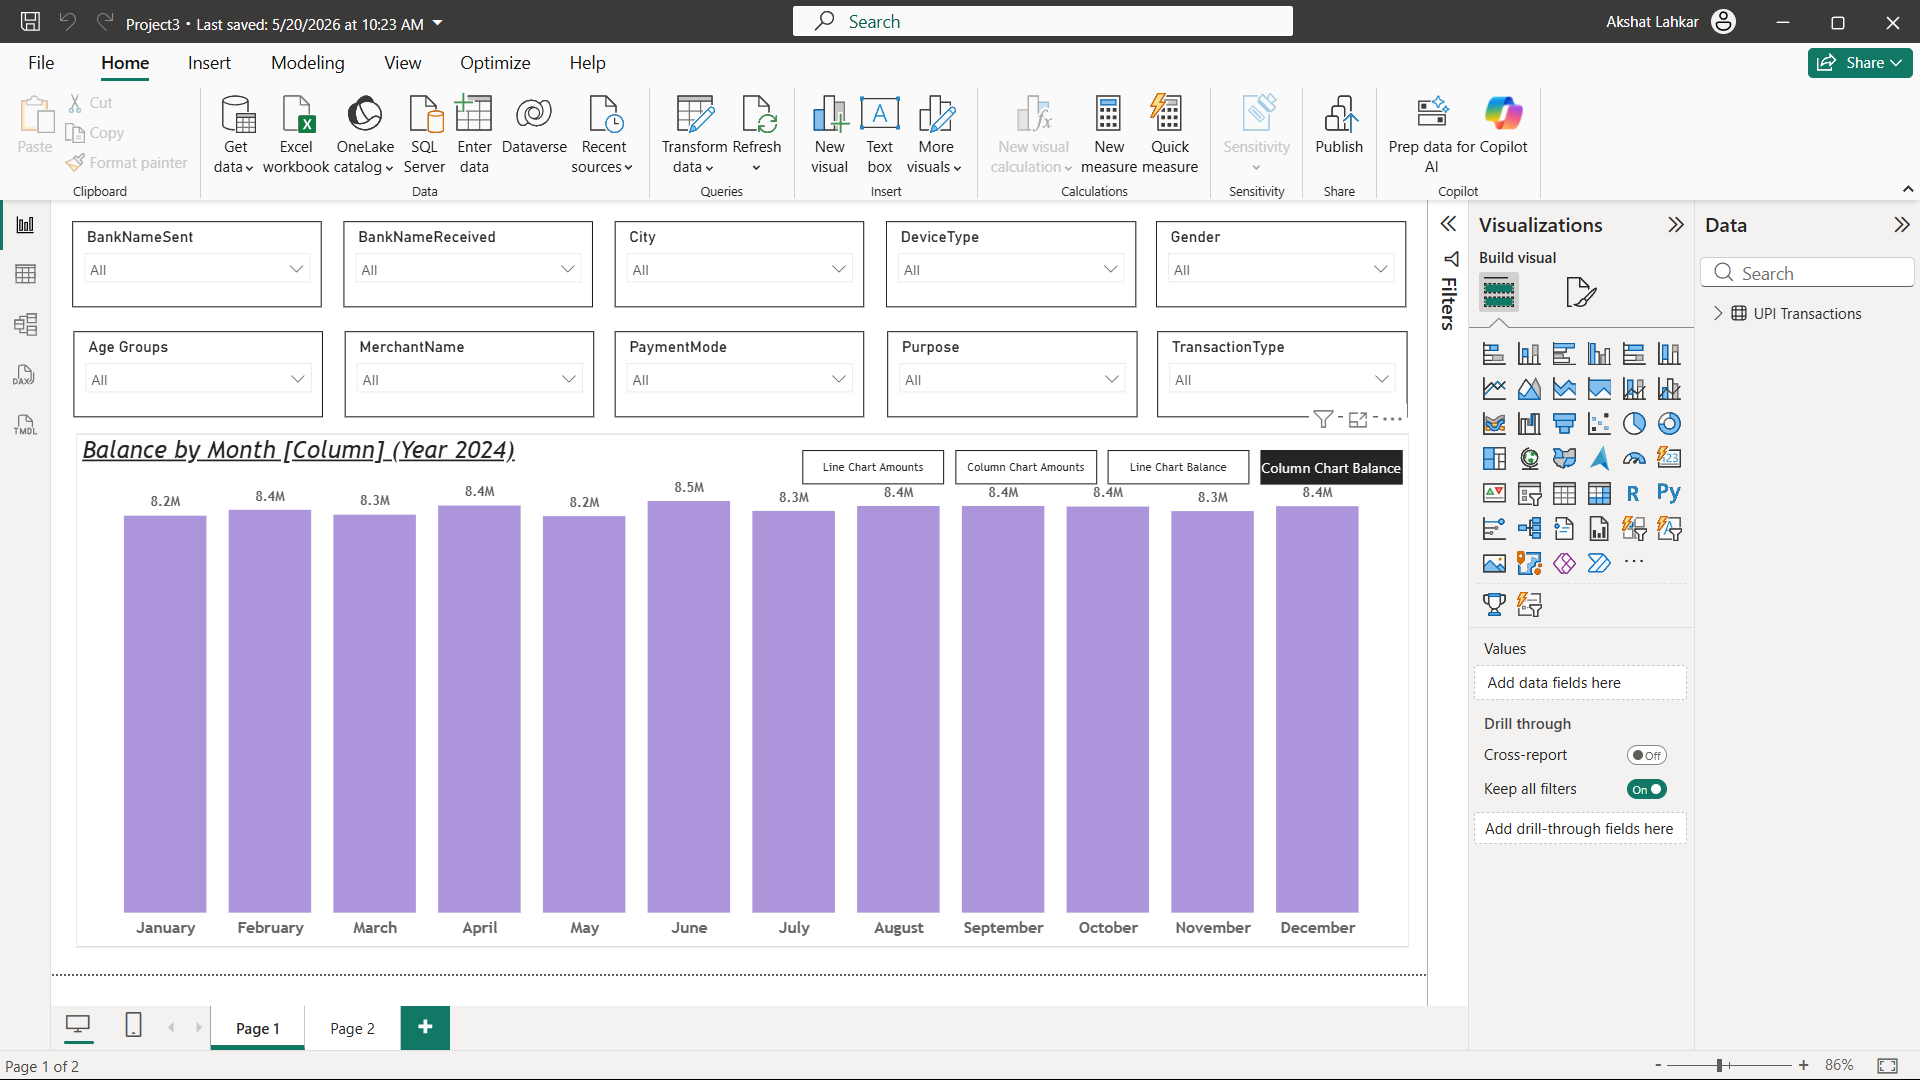

The page's visual inventory and layout, read from the dashboard file:
{"tool":"powerbi","page":{"name":"Page 1","canvas":[1280,720],"ordinal":0},"visuals":[{"type":"slicer","fields":{"Values":["UPI Transactions.BankNameSent"]},"box":[20,20,232,80],"z":0},{"type":"slicer","fields":{"Values":["UPI Transactions.BankNameReceived"]},"box":[272,20,232,80.2],"z":1000},{"type":"slicer","fields":{"Values":["UPI Transactions.City"]},"box":[524,20,232,80.2],"z":2000},{"type":"slicer","fields":{"Values":["UPI Transactions.DeviceType"]},"box":[776.7,20,232.6,80.2],"z":3000},{"type":"slicer","fields":{"Values":["UPI Transactions.Gender"]},"box":[1028,20,232.6,80.2],"z":4000},{"type":"slicer","fields":{"Values":["UPI Transactions.Age Groups"]},"box":[20.7,122.1,232,80],"z":5000},{"type":"slicer","fields":{"Values":["UPI Transactions.MerchantName"]},"box":[272.7,122.1,232,80.2],"z":6000},{"type":"slicer","fields":{"Values":["UPI Transactions.PaymentMode"]},"box":[524.7,122.1,232,80.2],"z":7000},{"type":"slicer","fields":{"Values":["UPI Transactions.Purpose"]},"box":[777.4,122.1,232.6,80.2],"z":8000},{"type":"slicer","fields":{"Values":["UPI Transactions.TransactionType"]},"box":[1028.7,122.1,232.6,80.2],"z":9000},{"type":"columnChart","title":"Balance by Month [Column] (Year 2024)","fields":{"Category":["UPI Transactions.TransactionDate.Variation.Date Hierarchy.Month"],"Y":["Sum(UPI Transactions.RemainingBalance)"]},"box":[23.1,217.1,1239.7,477.9],"z":13000},{"type":"bookmarkNavigator","box":[698.8,232.5,561.4,32.1],"z":14000}]}

Visuals, with their boxes on the page's 1280x720 design canvas (x1, y1, x2, y2). These are canvas units, not pixel positions in the 1920x1080 screenshot, which may show the page scaled, cropped or inside an application window:
slicer - UPI Transactions.BankNameSent: {"x1": 20, "y1": 20, "x2": 252, "y2": 100}
slicer - UPI Transactions.BankNameReceived: {"x1": 272, "y1": 20, "x2": 504, "y2": 100}
slicer - UPI Transactions.City: {"x1": 524, "y1": 20, "x2": 756, "y2": 100}
slicer - UPI Transactions.DeviceType: {"x1": 777, "y1": 20, "x2": 1009, "y2": 100}
slicer - UPI Transactions.Gender: {"x1": 1028, "y1": 20, "x2": 1261, "y2": 100}
slicer - UPI Transactions.Age Groups: {"x1": 21, "y1": 122, "x2": 253, "y2": 202}
slicer - UPI Transactions.MerchantName: {"x1": 273, "y1": 122, "x2": 505, "y2": 202}
slicer - UPI Transactions.PaymentMode: {"x1": 525, "y1": 122, "x2": 757, "y2": 202}
slicer - UPI Transactions.Purpose: {"x1": 777, "y1": 122, "x2": 1010, "y2": 202}
slicer - UPI Transactions.TransactionType: {"x1": 1029, "y1": 122, "x2": 1261, "y2": 202}
"Balance by Month [Column] (Year 2024)" columnChart: {"x1": 23, "y1": 217, "x2": 1263, "y2": 695}
bookmarkNavigator: {"x1": 699, "y1": 232, "x2": 1260, "y2": 265}
